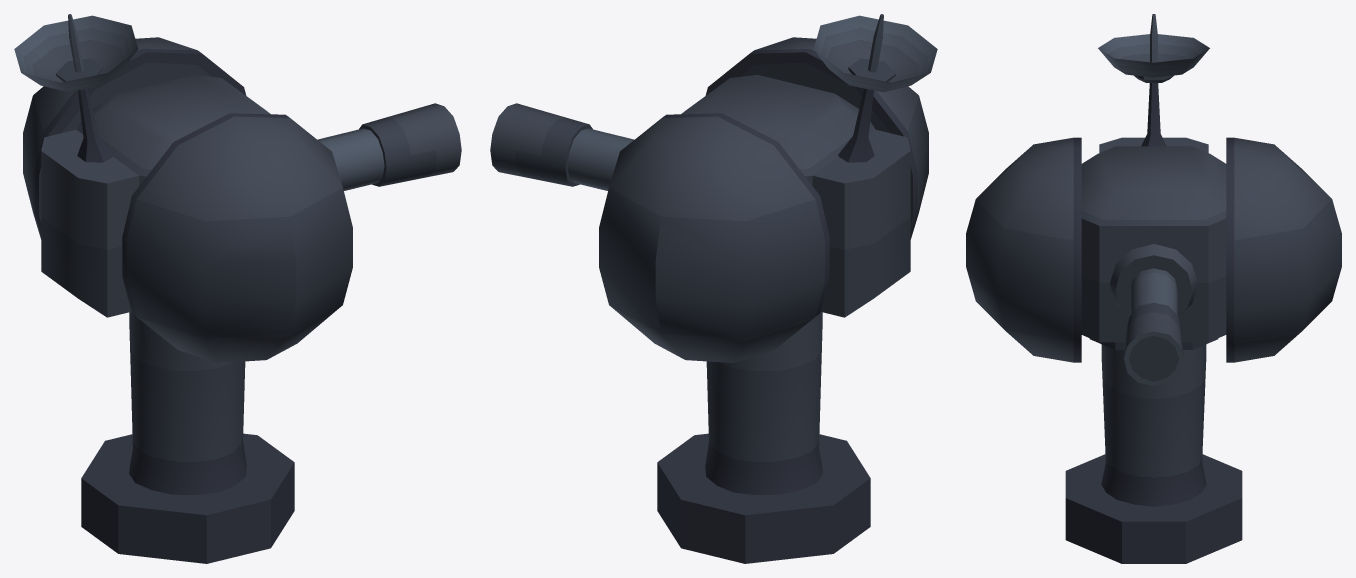
Rendered from lowpoly_turret.glb.
The picture shows the model from 3 angles, left to right: view 1: azimuth 30°, elevation 25°; view 2: azimuth 150°, elevation 25°; view 3: azimuth 270°, elevation 25°; orthographic projection. The views are drawn at different scales.
Visible parts, largest first — view 1: kenar, govde, bacak, kok, namlu, canak, anten; view 2: kenar, govde, bacak, kok, namlu, canak, anten; view 3: kenar, govde, kok, bacak, namlu, canak, namluKok, anten.
Part boxes in pixels (left/top/right/bottom): kenar: left=23, top=37, right=352, bottom=362; govde: left=41, top=75, right=270, bottom=317; bacak: left=81, top=433, right=294, bottom=563; kok: left=129, top=312, right=246, bottom=495; namlu: left=317, top=103, right=461, bottom=190; canak: left=14, top=15, right=137, bottom=92; anten: left=55, top=14, right=113, bottom=162; kenar: left=599, top=37, right=928, bottom=362; govde: left=681, top=75, right=910, bottom=317; bacak: left=657, top=433, right=870, bottom=563; kok: left=705, top=312, right=822, bottom=495; namlu: left=490, top=103, right=634, bottom=190; canak: left=814, top=15, right=937, bottom=92; anten: left=838, top=14, right=896, bottom=162; kenar: left=966, top=137, right=1341, bottom=362; govde: left=1081, top=137, right=1226, bottom=349; kok: left=1101, top=344, right=1206, bottom=506; bacak: left=1065, top=454, right=1242, bottom=563; namlu: left=1124, top=268, right=1183, bottom=385; canak: left=1098, top=34, right=1209, bottom=77; namluKok: left=1109, top=244, right=1198, bottom=316; anten: left=1133, top=14, right=1174, bottom=146.
Size of the model in its own units: 2.64 by 3.18 by 2.34.
1 material, 1 textured.
